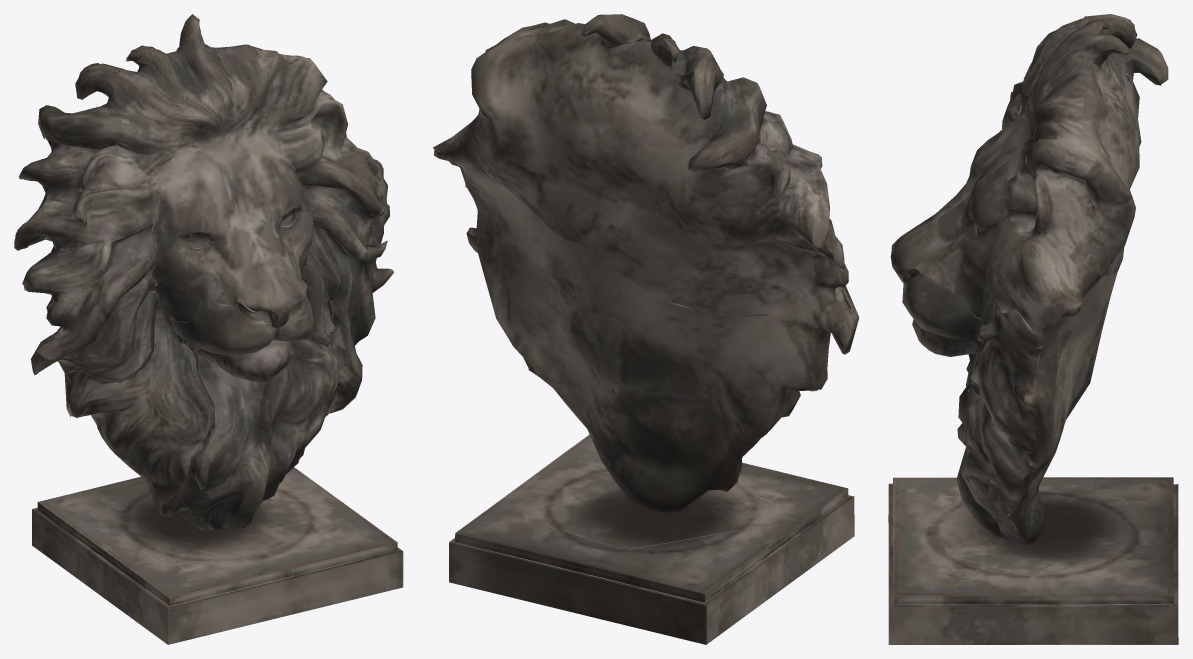
The model's file is ph_lion_head.glb.
3 renders of one model, left to right at view 1: azimuth 30°, elevation 25°; view 2: azimuth 150°, elevation 25°; view 3: azimuth 270°, elevation 25°, orthographic. The views are drawn at different scales.
Parts seen in each view (by area): view 1: lion_head; view 2: lion_head; view 3: lion_head.
Boxes of the visible parts, x1,y1,x2,y2 form: lion_head: [14, 14, 403, 644]; lion_head: [433, 14, 859, 644]; lion_head: [888, 14, 1178, 644].
Size of the model in its own units: 0.3213 by 0.4352 by 0.2068.
Materials: 1 (1 with a texture image).
